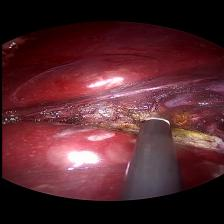Hook: (138, 98, 176, 128)
